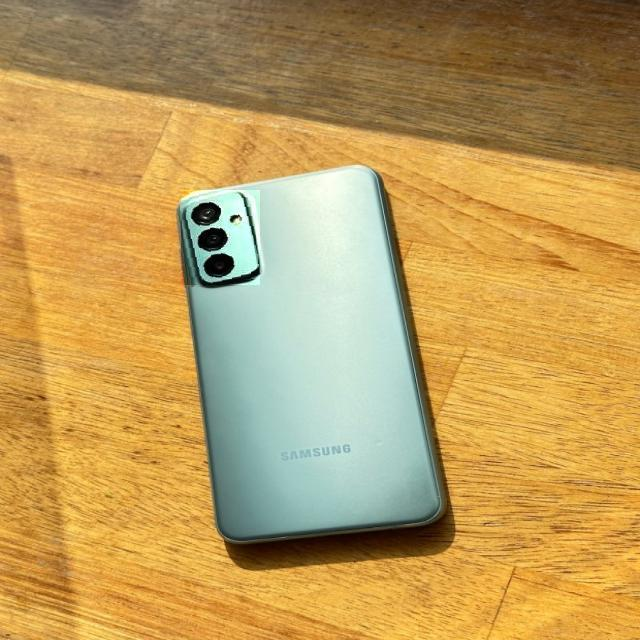Mobile: (172, 164, 455, 549)
